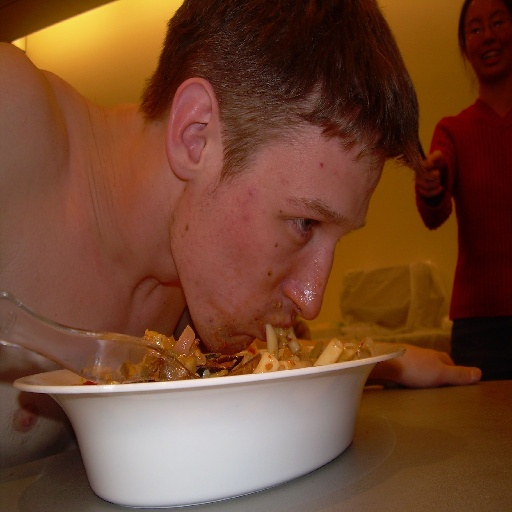hand: (377, 343, 483, 388), (417, 134, 457, 204)
